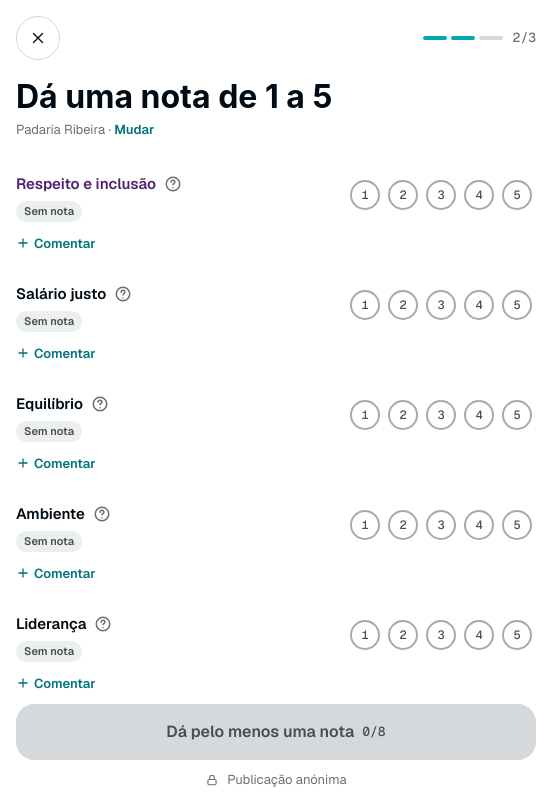
Avaliar · notas e publicar (telemóvel, passo 2 de 3) › ajuda por critério abre e fecha
The width and height of the screenshot is (553, 804).
Click the button named "O que conta em Ambiente": (102, 514) [87,499,117,529]
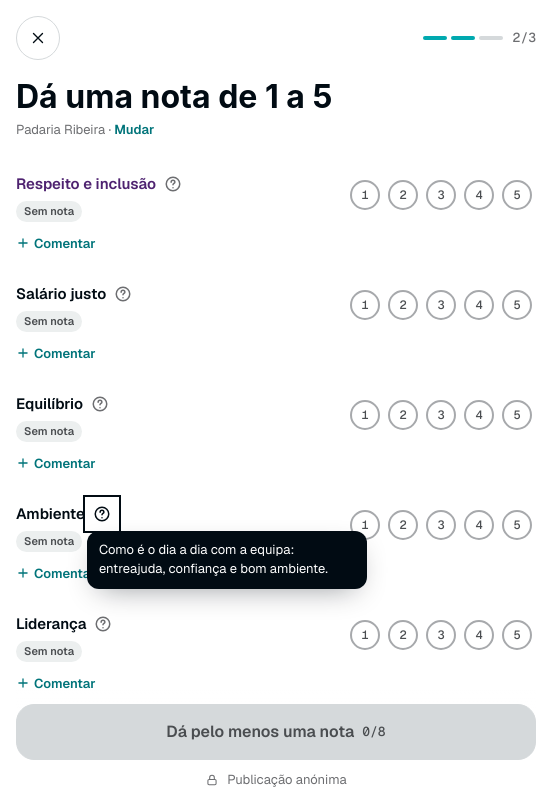
Result: the button named "O que conta em Ambiente" is expanded at [87,499,117,529]
